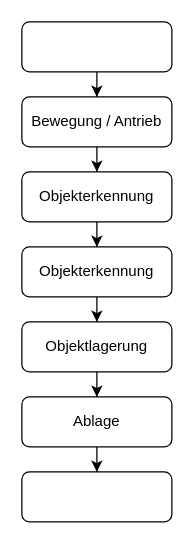
Image size: 194x544. Some labels were removed from this diagram. The box of each missing label's shape, as (x1, y1, x2, y2) in pixels:
Prozess Ende: (21, 471, 172, 522)
Start Roboter: (21, 21, 172, 72)
